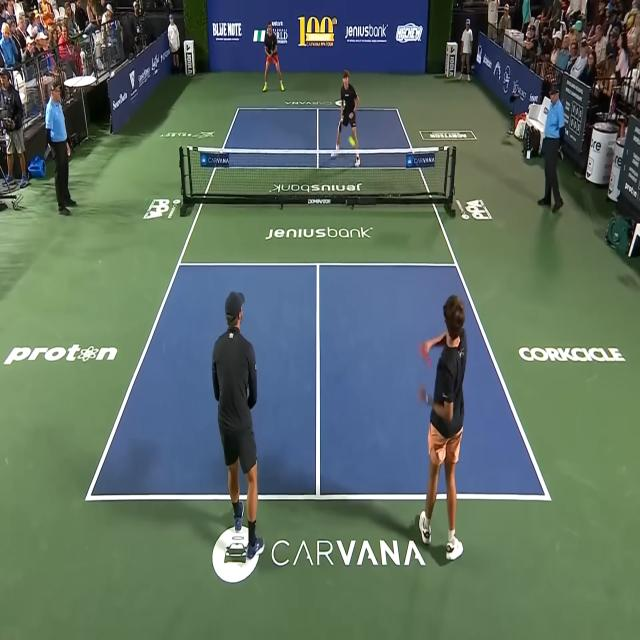ball: (348, 135, 356, 148)
